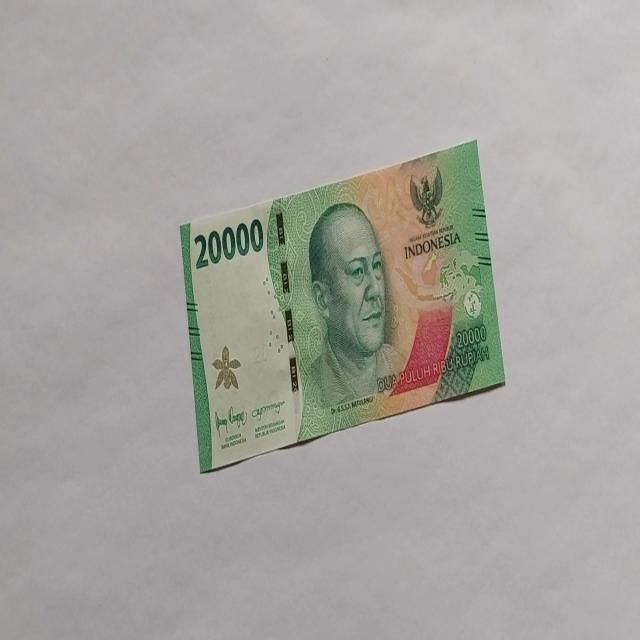dua puluh ribu rupiah: (179, 137, 506, 474), (298, 200, 406, 436)
